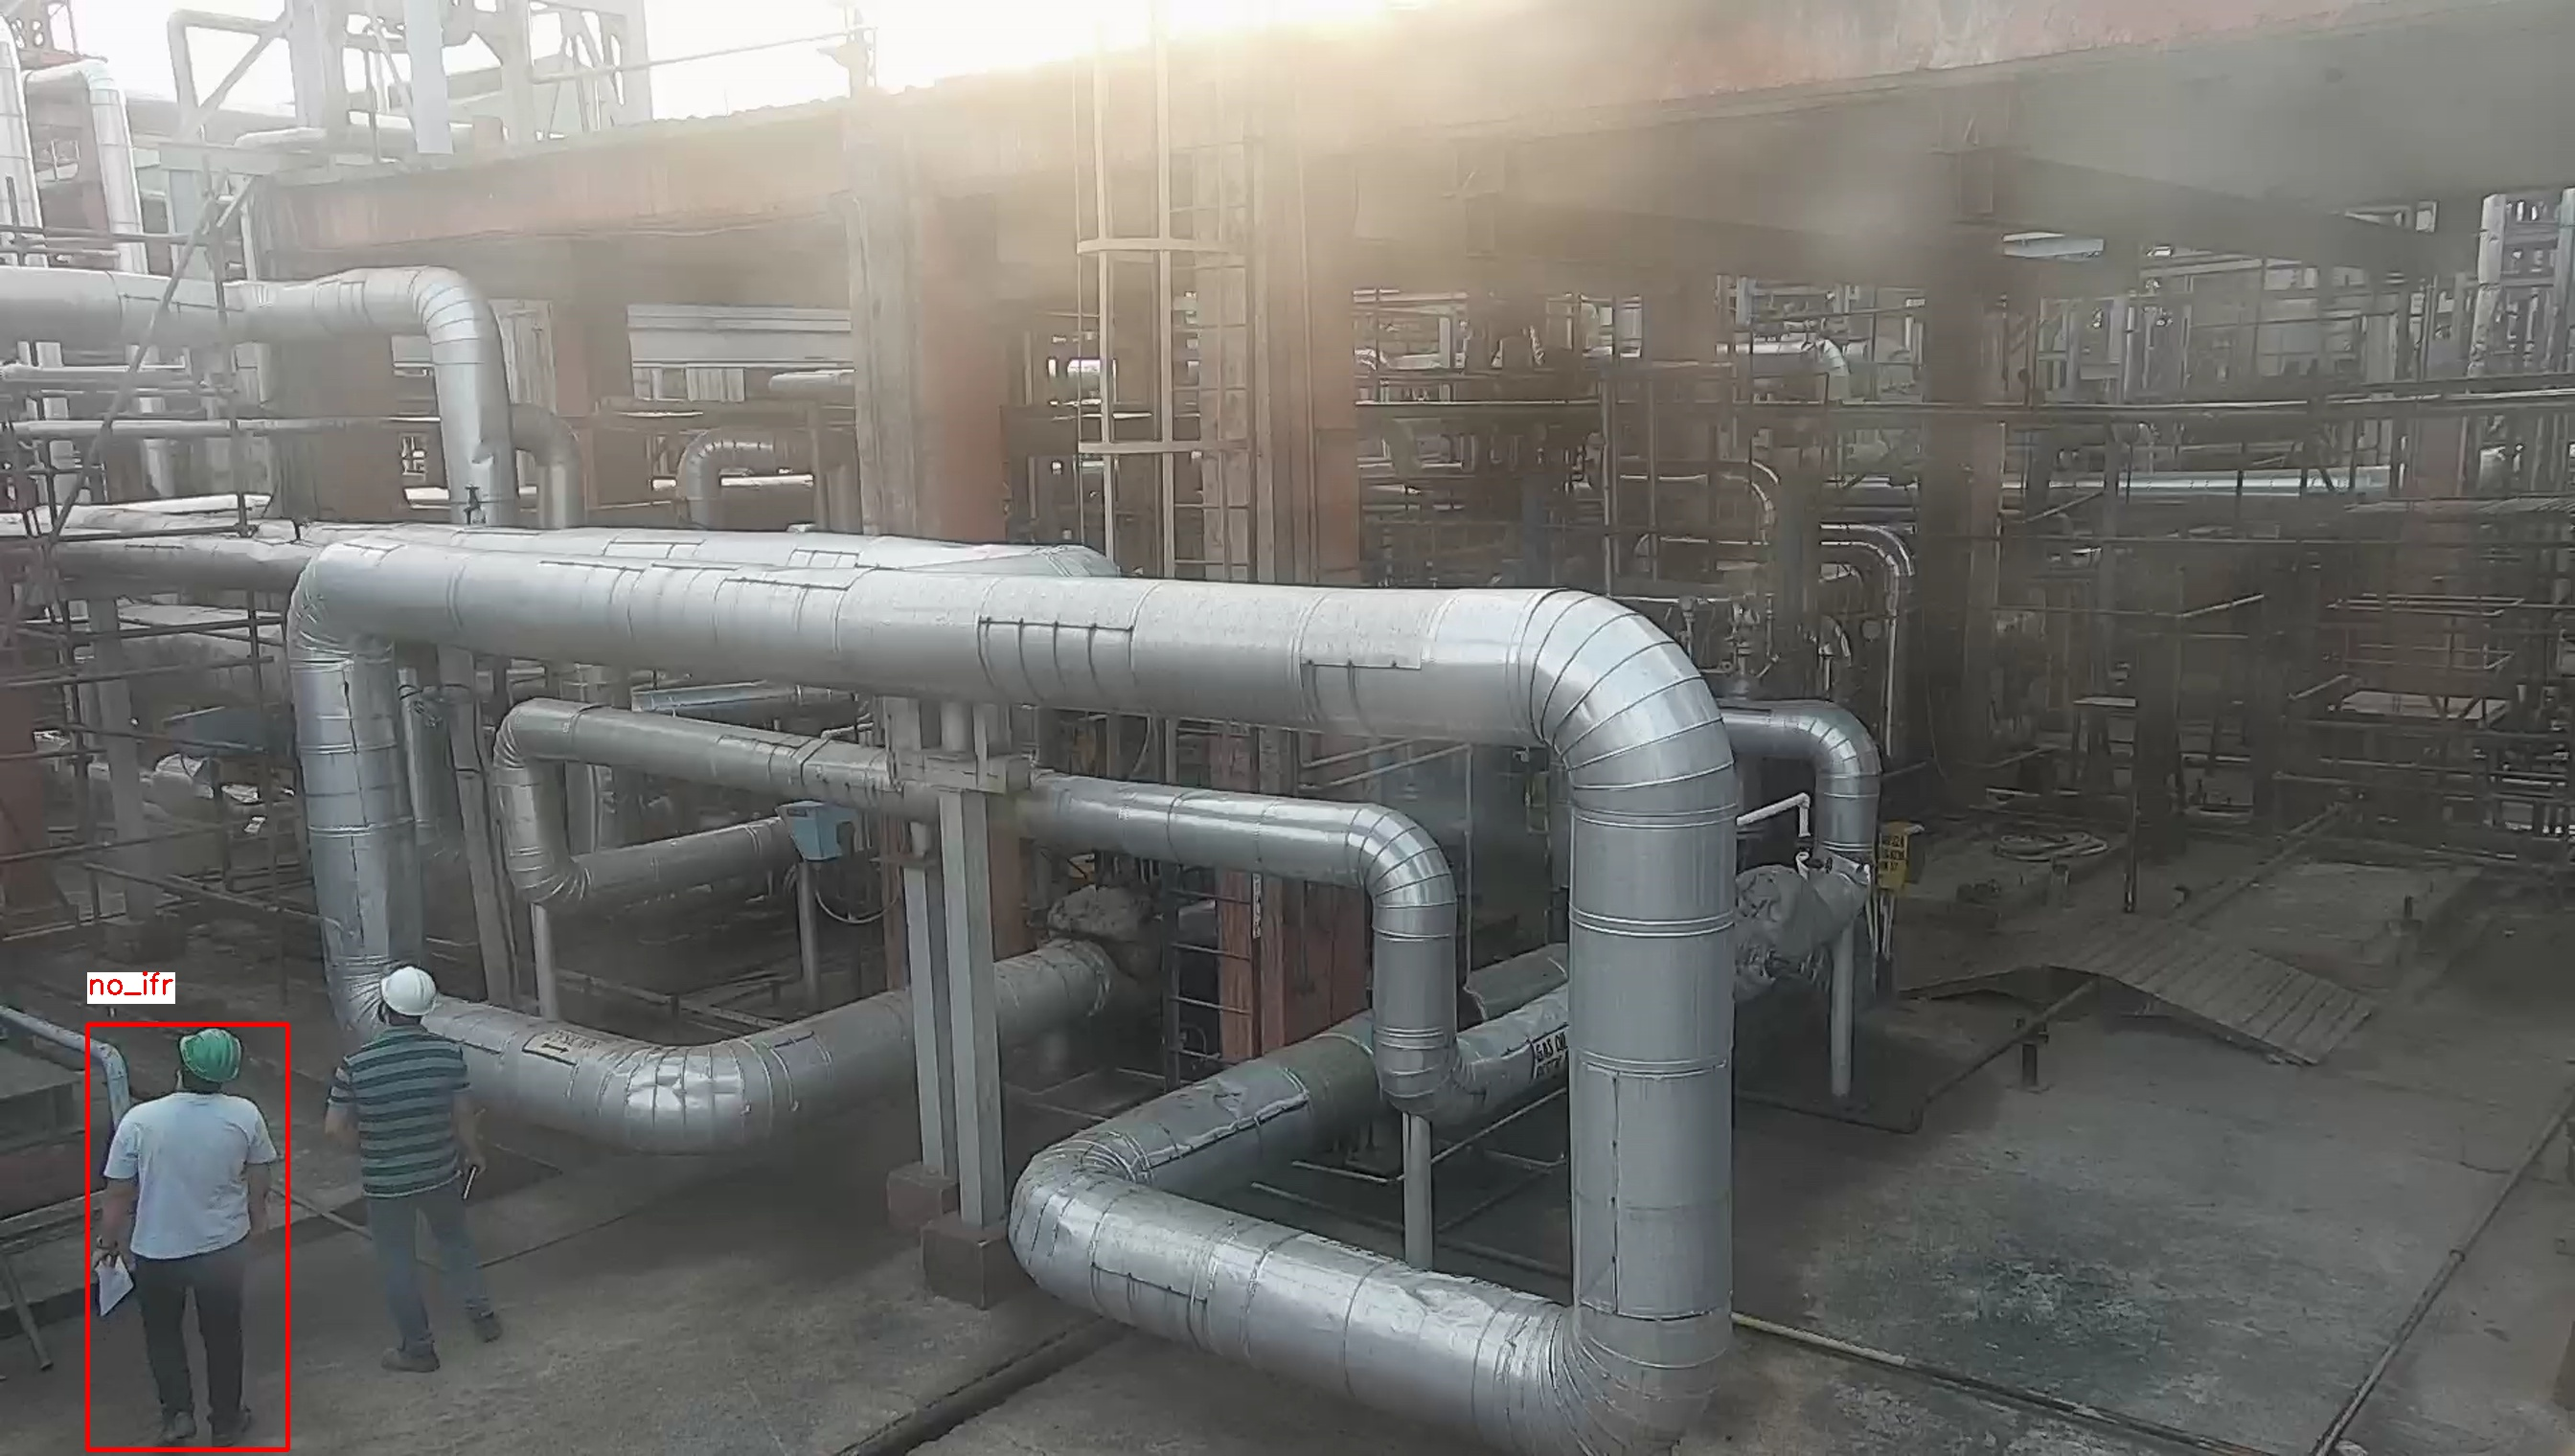Boots: (373, 1330, 447, 1380), (147, 1406, 200, 1445), (209, 1401, 255, 1442), (463, 1309, 509, 1346)
Helmets: (175, 1024, 248, 1088), (375, 964, 446, 1019)
